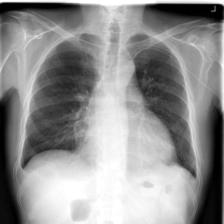normal: (15, 27, 206, 185)
